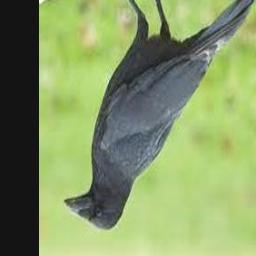Crow: (65, 0, 256, 231)
